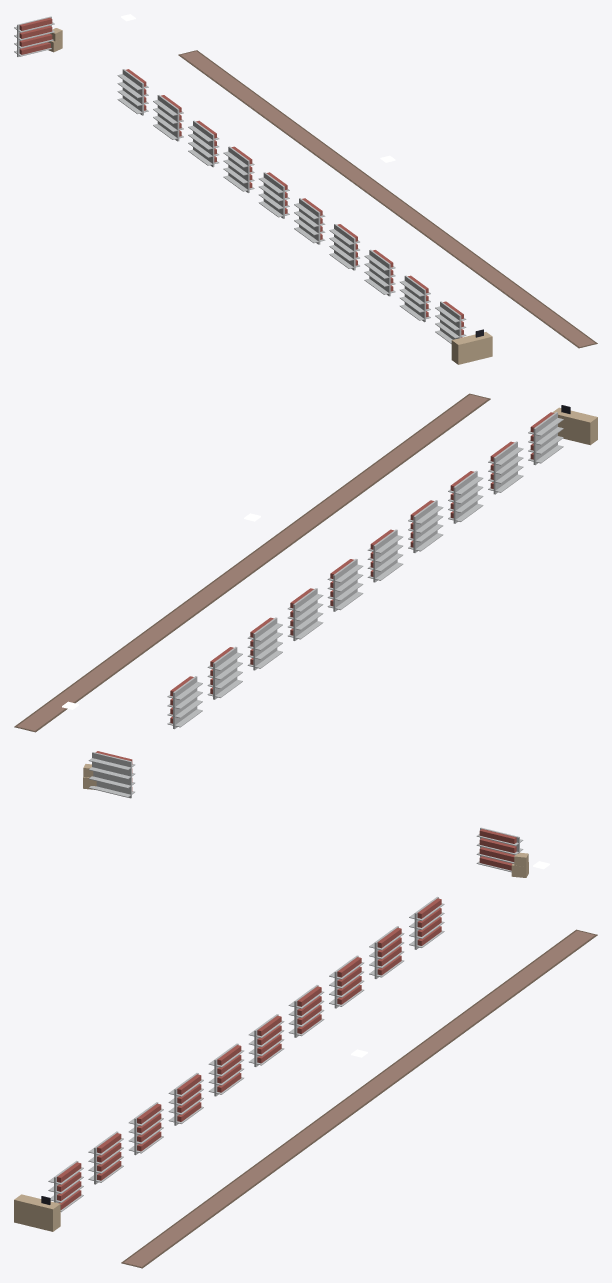
File: fine-s0.glb
The picture shows the model from 3 angles, top to bottom: view 1: azimuth 30°, elevation 25°; view 2: azimuth 150°, elevation 25°; view 3: azimuth 330°, elevation 25°; orthographic projection. The views are drawn at different scales.
Visible parts, largest first — view 1: soft-s0, shelving.000, shop-counter.000, shelf.003, shelf.007, shelf.000, shelf.001, shelf.008, shelf.004, shelf.005, shelf.002, shelf.006 (+1 smaller); view 2: soft-s0, shelving.000, shelf.005, shelf.008, shelf.004, shelf.002, shelf.009, shelf.000, shelf.007, shelf.003, shelf.001, shelf.006 (+1 smaller); view 3: soft-s0, shelving.000, shop-counter.000, shelf.003, shelf.005, shelf.008, shelf.004, shelf.001, shelf.006, shelf.002, shelf.000, shelf.007 (+1 smaller).
Boxes of the visible parts, bbox=[...] form: soft-s0: bbox=[178, 50, 597, 348]; shelving.000: bbox=[14, 16, 54, 56]; shop-counter.000: bbox=[451, 329, 492, 364]; shelf.003: bbox=[223, 146, 254, 192]; shelf.007: bbox=[364, 249, 395, 296]; shelf.000: bbox=[117, 69, 148, 115]; shelf.001: bbox=[153, 95, 183, 141]; shelf.008: bbox=[400, 275, 430, 322]; shelf.004: bbox=[258, 172, 289, 218]; shelf.005: bbox=[294, 198, 325, 244]; shelf.002: bbox=[188, 120, 219, 167]; shelf.006: bbox=[329, 224, 359, 270]; soft-s0: bbox=[14, 393, 490, 732]; shelving.000: bbox=[88, 751, 135, 798]; shelf.005: bbox=[367, 529, 403, 582]; shelf.008: bbox=[488, 441, 523, 494]; shelf.004: bbox=[327, 559, 363, 611]; shelf.002: bbox=[247, 617, 282, 670]; shelf.009: bbox=[528, 412, 563, 465]; shelf.000: bbox=[167, 676, 202, 729]; shelf.007: bbox=[448, 470, 483, 523]; shelf.003: bbox=[287, 588, 323, 640]; shelf.001: bbox=[207, 646, 242, 699]; shelf.006: bbox=[408, 500, 443, 552]; soft-s0: bbox=[121, 929, 597, 1268]; shelving.000: bbox=[476, 827, 523, 872]; shop-counter.000: bbox=[14, 1194, 60, 1231]; shelf.003: bbox=[288, 985, 324, 1037]; shelf.005: bbox=[208, 1043, 244, 1096]; shelf.008: bbox=[88, 1131, 123, 1184]; shelf.004: bbox=[248, 1014, 284, 1066]; shelf.001: bbox=[369, 926, 404, 978]; shelf.006: bbox=[168, 1073, 203, 1125]; shelf.002: bbox=[329, 955, 364, 1008]; shelf.000: bbox=[409, 896, 444, 949]; shelf.007: bbox=[128, 1102, 163, 1155].
Size of the model in its own units: 7.42 by 2.03 by 40.13.
